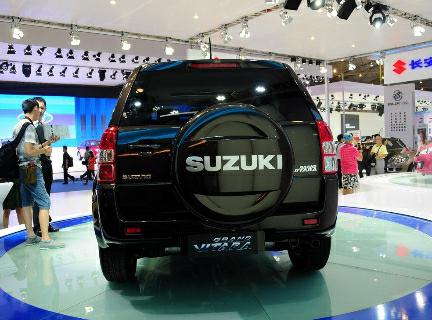铃木-超级维特拉: (91, 54, 345, 289)
